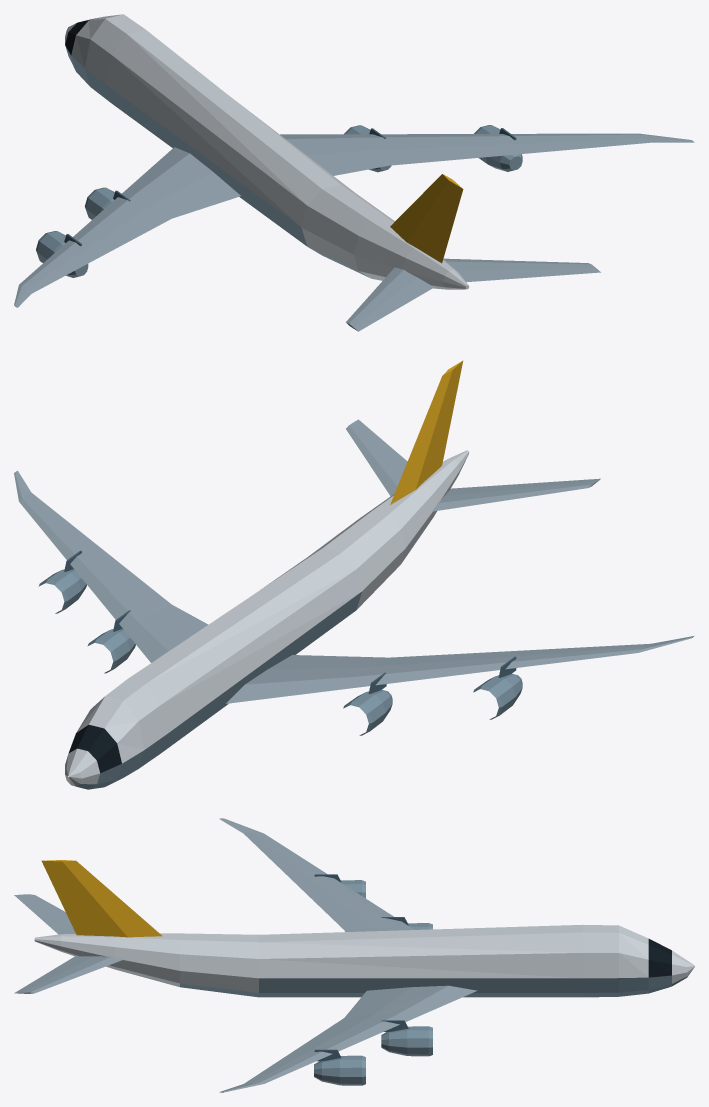
3 renders of one model, top to bottom at view 1: azimuth 30°, elevation 25°; view 2: azimuth 150°, elevation 25°; view 3: azimuth 270°, elevation 25°, orthographic. The views are drawn at different scales.
Parts seen in each view (by area): view 1: lod0; view 2: lod0; view 3: lod0.
Boxes of the visible parts, left/top/right/bottom form: lod0: left=14, top=14, right=694, bottom=331; lod0: left=14, top=360, right=694, bottom=789; lod0: left=14, top=818, right=694, bottom=1092.
Size of what is drawn, in the model's own units: 0.9509 by 0.2302 by 1.
